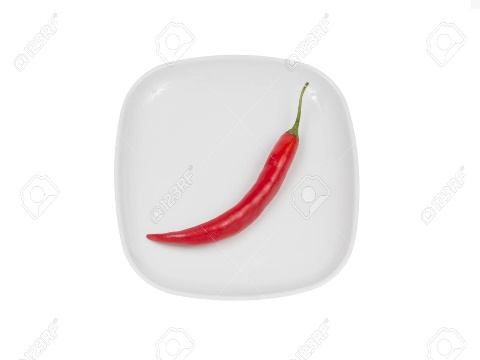Chilli: (143, 85, 324, 255)
